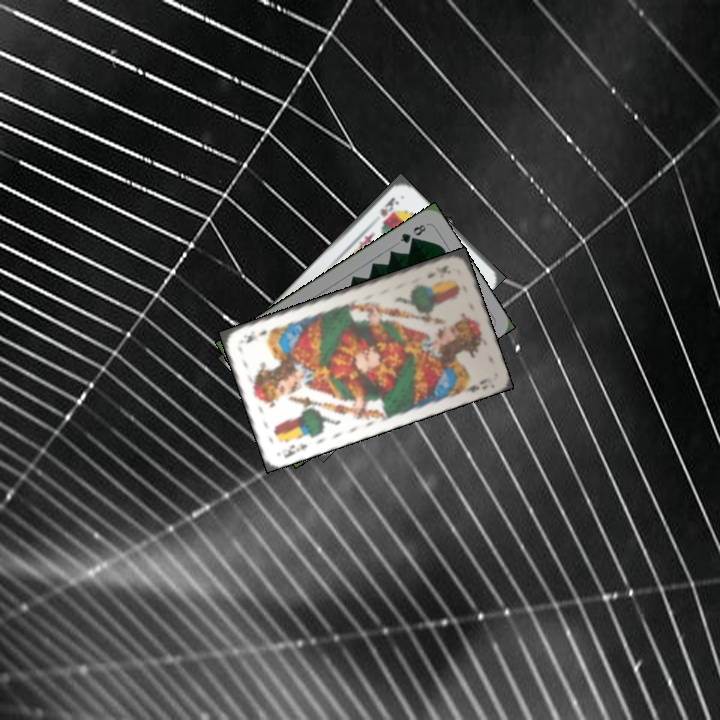EK: (280, 439, 310, 461), (423, 261, 451, 281)
G8: (395, 220, 429, 246)
SK: (376, 193, 401, 220)
